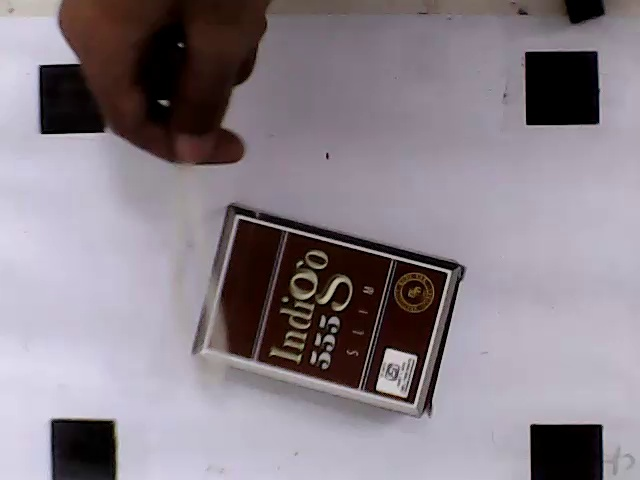BEX: (204, 215, 449, 405)
